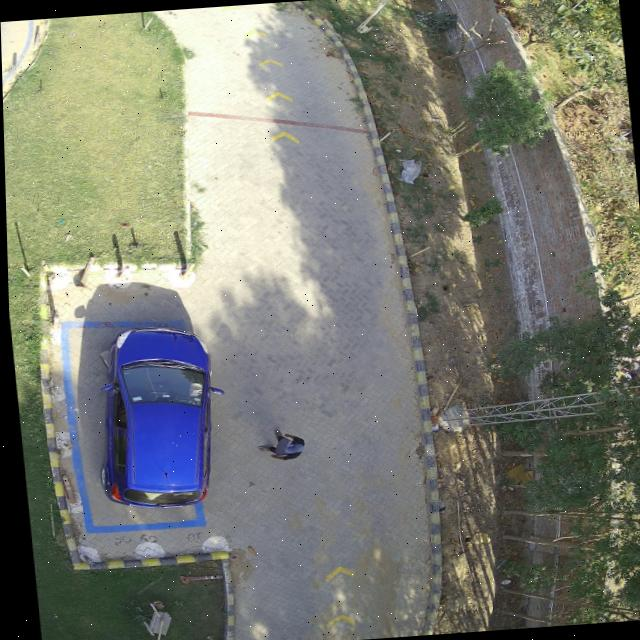car: (94, 326, 208, 508)
